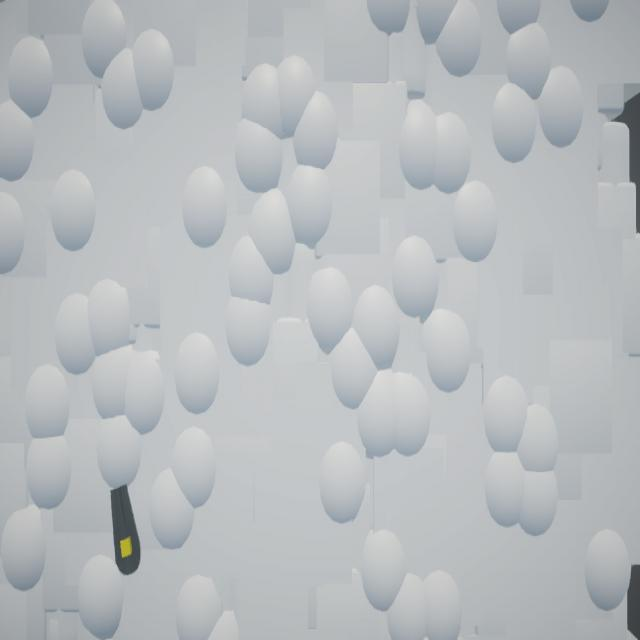handle_folk: (111, 485, 142, 576)
